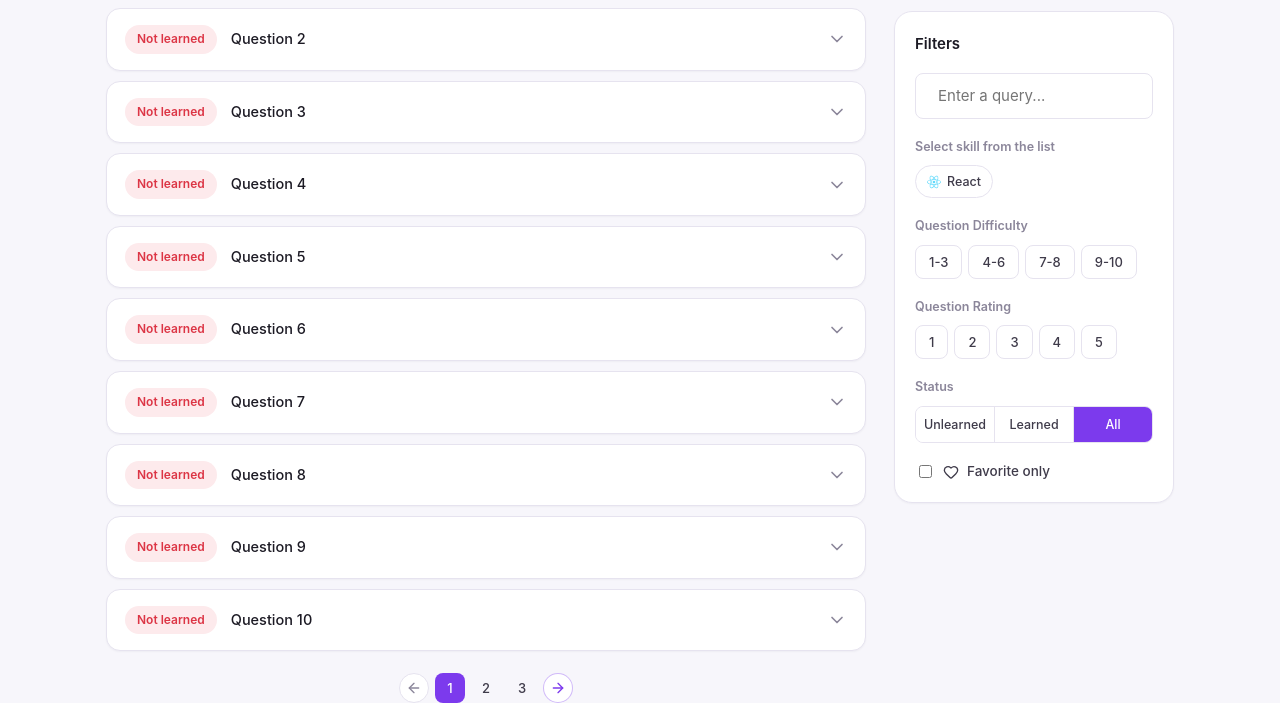
Test case: filters and pagination together › jumps back to page 1 when the filters change
The width and height of the screenshot is (1280, 703).
(page scrolled)
Click the 2nd button "3": {"x": 522, "y": 688} [507,673,537,702]
(page scrolled)
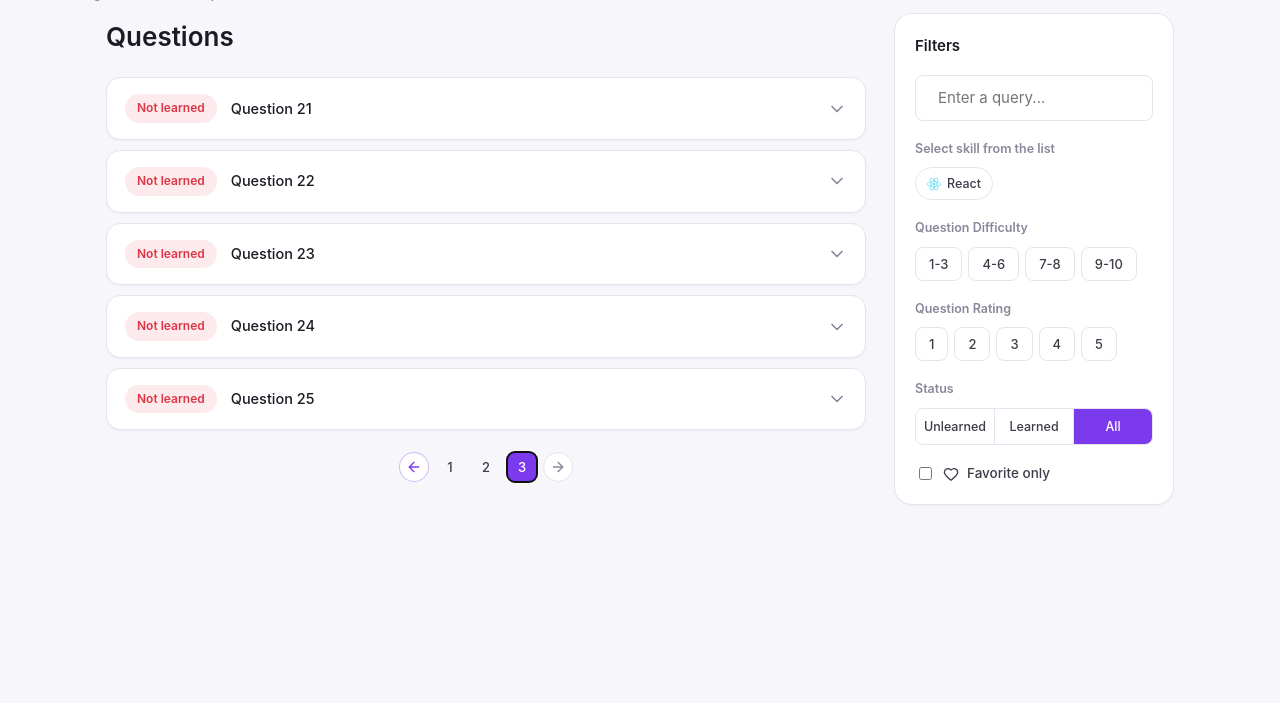
Expected: the text "Question 21" is shown, [231,100,312,116]
